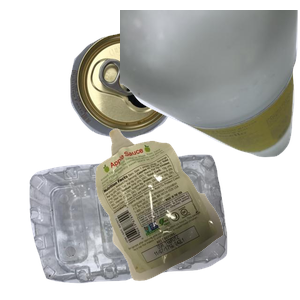glass: (120, 10, 300, 160)
metal: (68, 28, 237, 159)
plastic: (27, 152, 247, 300)
trash: (93, 126, 300, 300)
